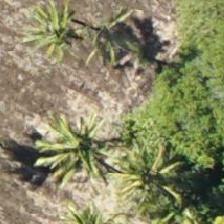coconut_tree: (38, 98, 128, 188), (99, 134, 189, 223), (70, 0, 160, 68), (13, 0, 103, 64)
